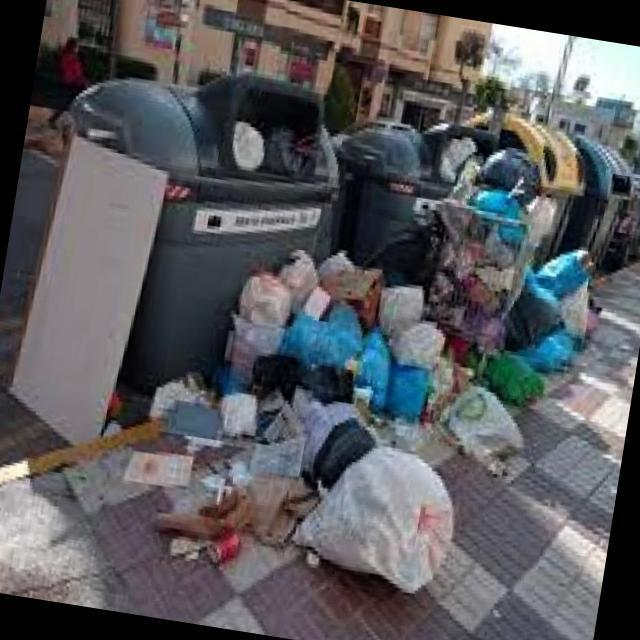garbage: (106, 83, 632, 622)
